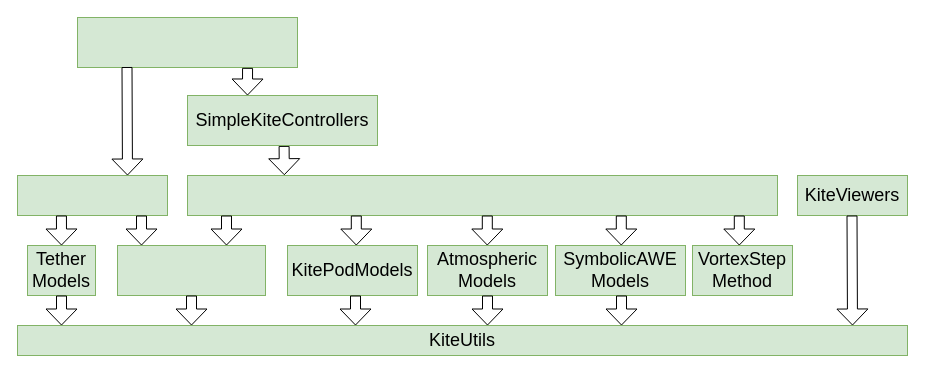
This 925x373 diagram has some shape labels left out. The box of each missing label's shape, as (x1, y1, x2, y2) in pixels:
KiteControllers: (76, 16, 298, 68)
KiteModels: (186, 174, 778, 216)
Winch Models: (116, 244, 266, 296)
WinchControllers: (16, 174, 168, 216)
